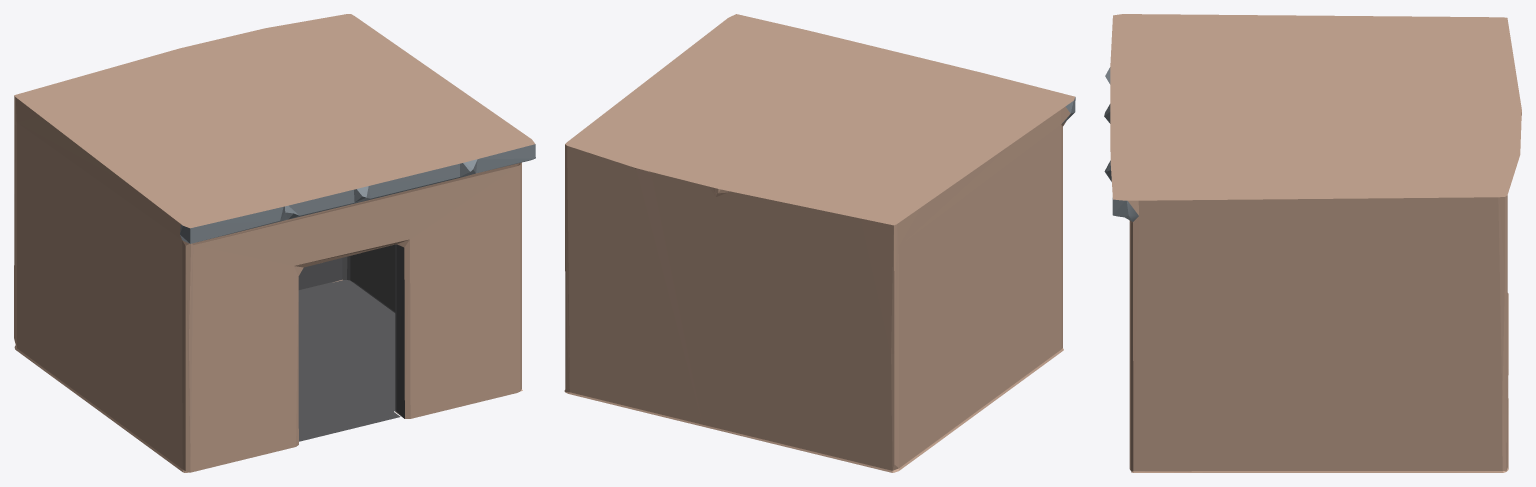
The model's file is etape-1.glb.
3 renders of one model, left to right at view 1: azimuth 30°, elevation 25°; view 2: azimuth 150°, elevation 25°; view 3: azimuth 270°, elevation 25°, orthographic. The views are drawn at different scales.
Visible parts, largest first — view 1: geometry_0; view 2: geometry_0; view 3: geometry_0.
Boxes of the visible parts, x1,y1,x2,y2 form: geometry_0: (14,14,535,472); geometry_0: (564,14,1075,472); geometry_0: (1104,14,1521,472).
Bounding box in the file's own units: 0.7032 × 0.4833 × 0.6646.
